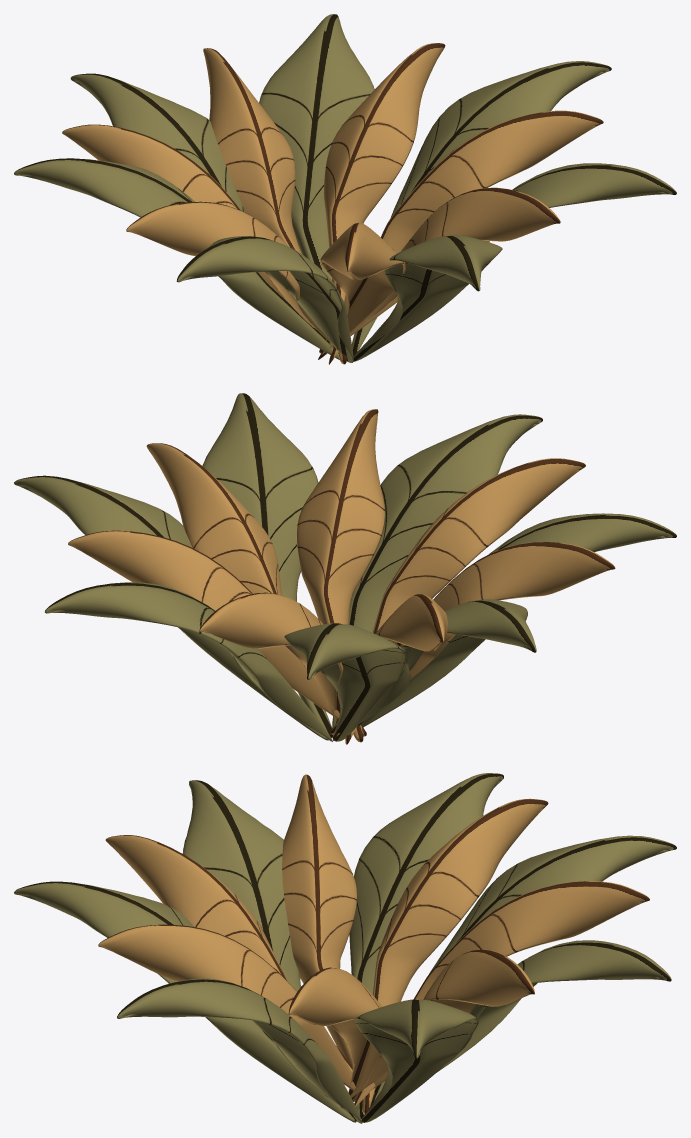
Rendered from Plant5.fbx.
The picture shows the model from 3 angles, top to bottom: view 1: azimuth 30°, elevation 25°; view 2: azimuth 150°, elevation 25°; view 3: azimuth 270°, elevation 25°; orthographic projection. The views are drawn at different scales.
Parts seen in each view (by area): view 1: Plane.026, Plane.025; view 2: Plane.025, Plane.026; view 3: Plane.025, Plane.026.
Boxes of the visible parts, <box> form: Plane.026: <box>14,14,676,362</box>; Plane.025: <box>62,43,603,364</box>; Plane.025: <box>68,409,615,744</box>; Plane.026: <box>14,393,676,741</box>; Plane.025: <box>98,774,649,1114</box>; Plane.026: <box>14,773,676,1123</box>.
Bounding box in the file's own units: 519 × 200 × 517.
2 materials, 2 textured.
